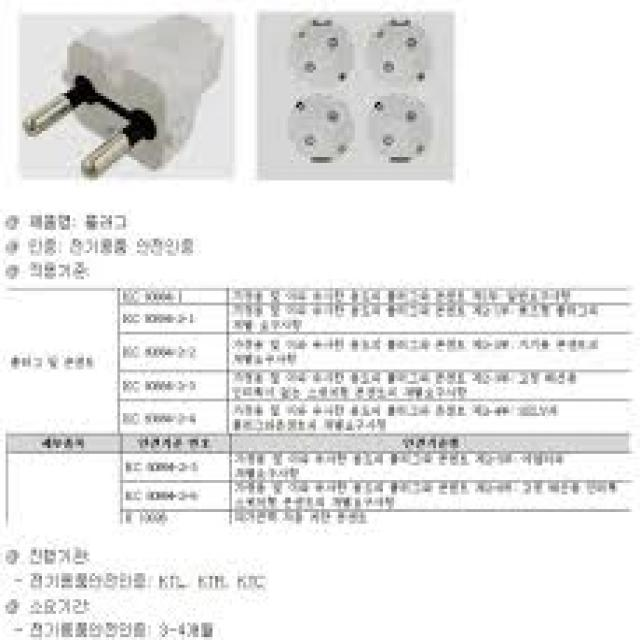typeb: (242, 0, 484, 214)
